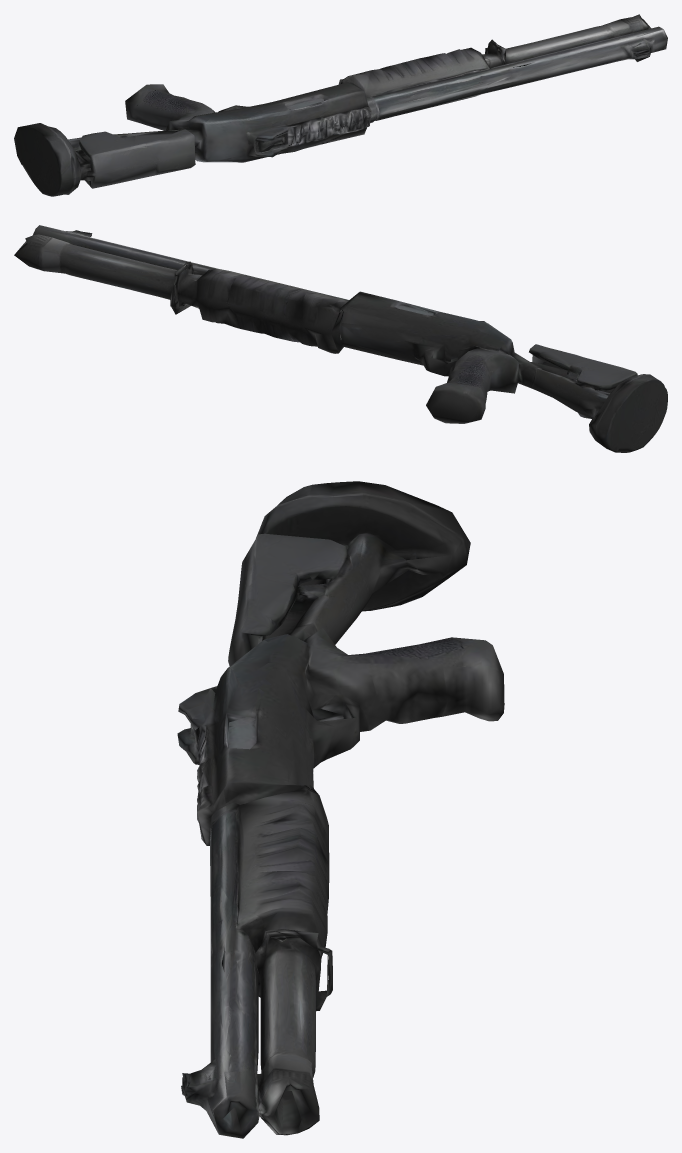
Rendered from escopeta.glb.
3 renders of one model, top to bottom at view 1: azimuth 30°, elevation 25°; view 2: azimuth 150°, elevation 25°; view 3: azimuth 270°, elevation 25°, orthographic. The views are drawn at different scales.
Parts seen in each view (by area): view 1: tripo_node_21d391e2; view 2: tripo_node_21d391e2; view 3: tripo_node_21d391e2.
Part boxes in pixels (x1,y1,x2,y2): tripo_node_21d391e2: (14,14,667,196); tripo_node_21d391e2: (14,225,667,452); tripo_node_21d391e2: (177,481,504,1138).
Size of the model in its own units: 97.84 by 9.47 by 23.27.
Materials: 1 (1 with a texture image).
